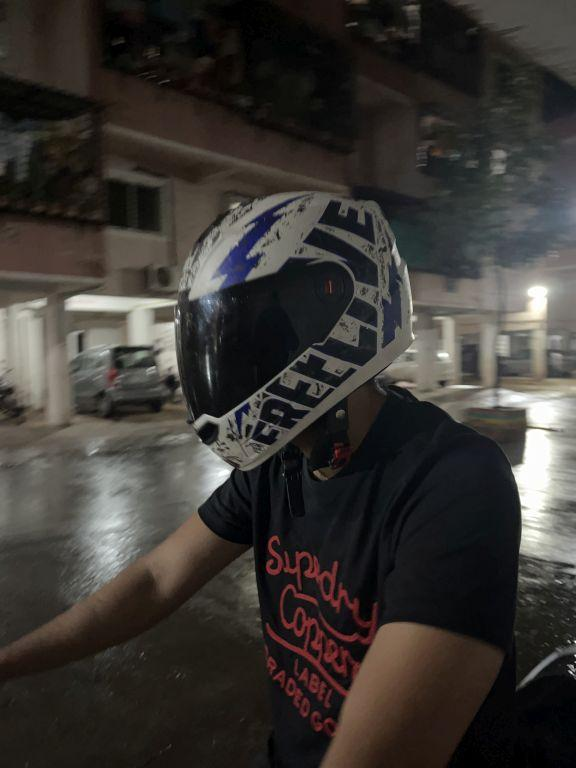helmet: (165, 177, 433, 485)
